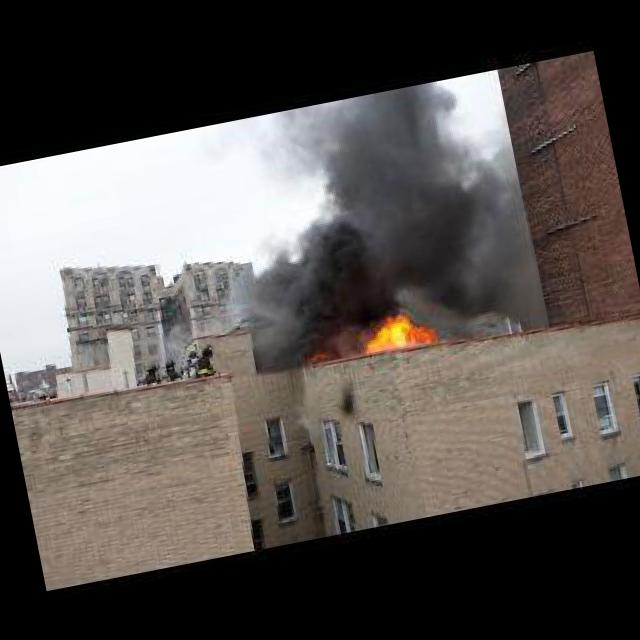Fire: (352, 299, 445, 361)
Smoke: (250, 75, 524, 342)
